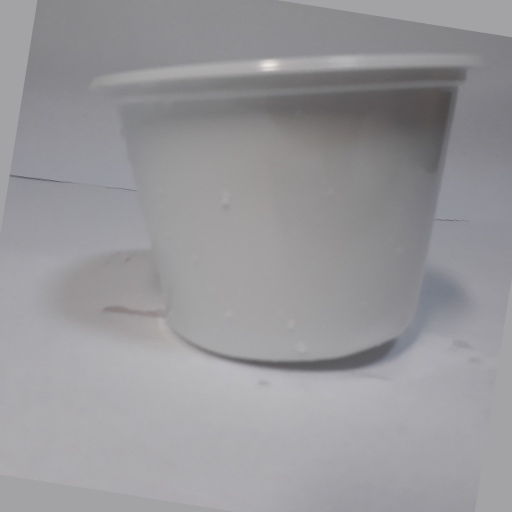Plastic_5: (91, 50, 483, 370)
